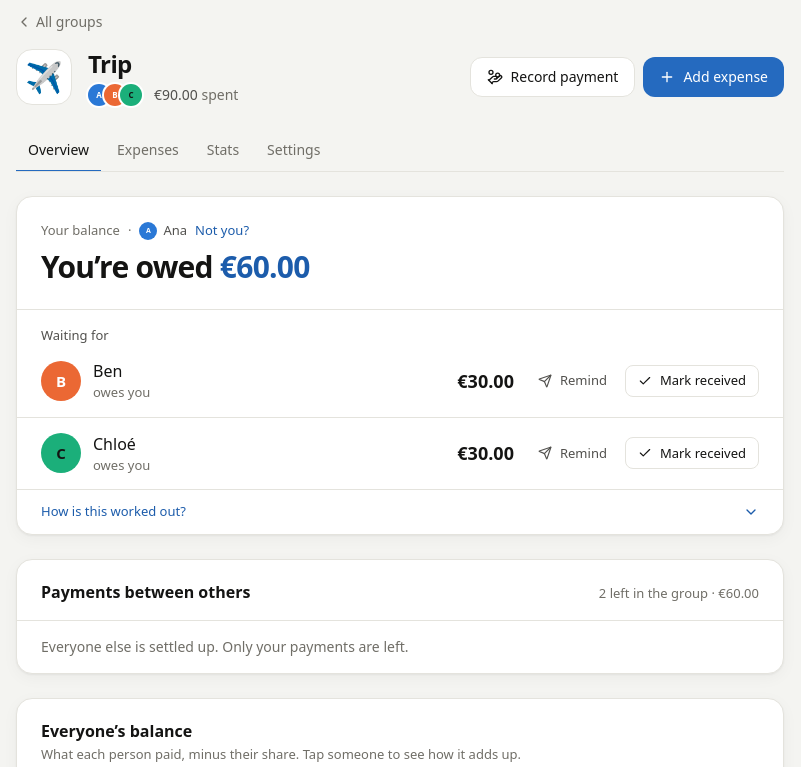
it: Overview when you are owed › ticks payments off as they arrive
Click the 1st button "Mark received" at (692, 381), box 625,365 -> 759,397
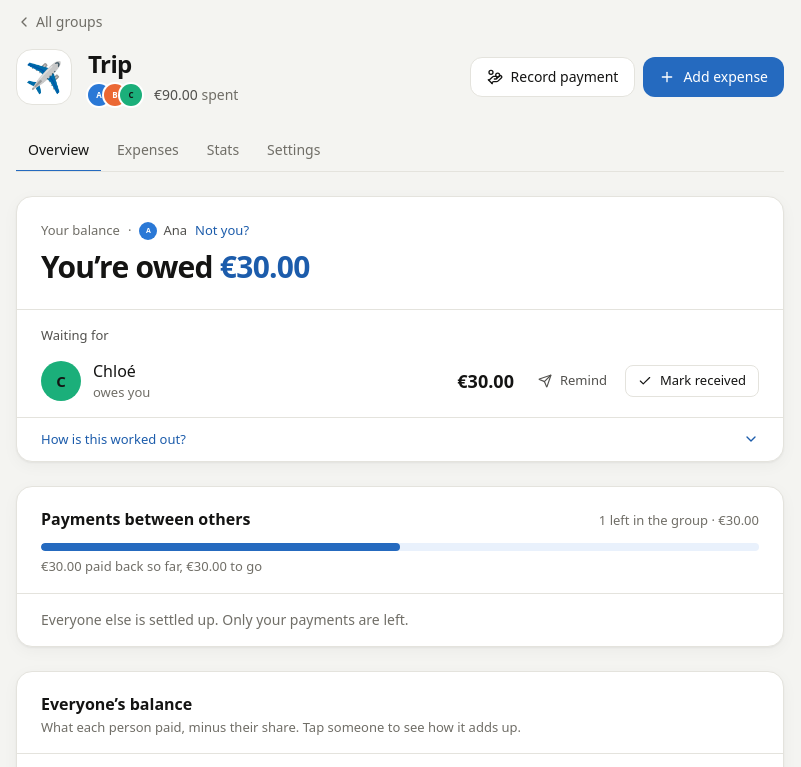
Expected: the number of buttons "Mark received" is 1
Expected: the text "€30.00 paid back so far, €30.00 to go" is shown, 41,557 -> 262,575
Click the button "Mark received" at (692, 381), box 625,365 -> 759,397
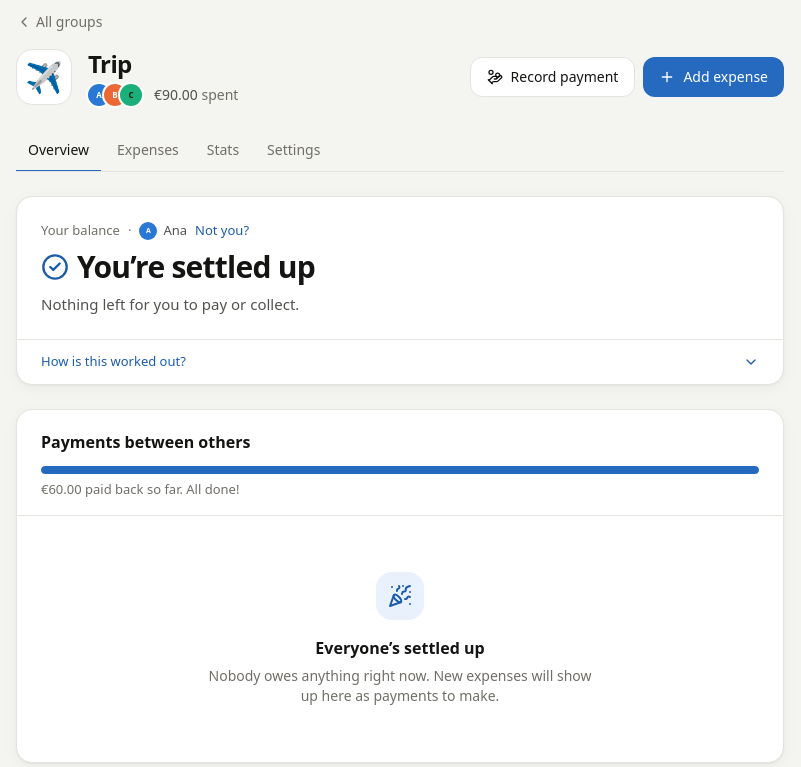
Expected: the element showing "You’re settled up" is shown, 41,246 -> 315,286
